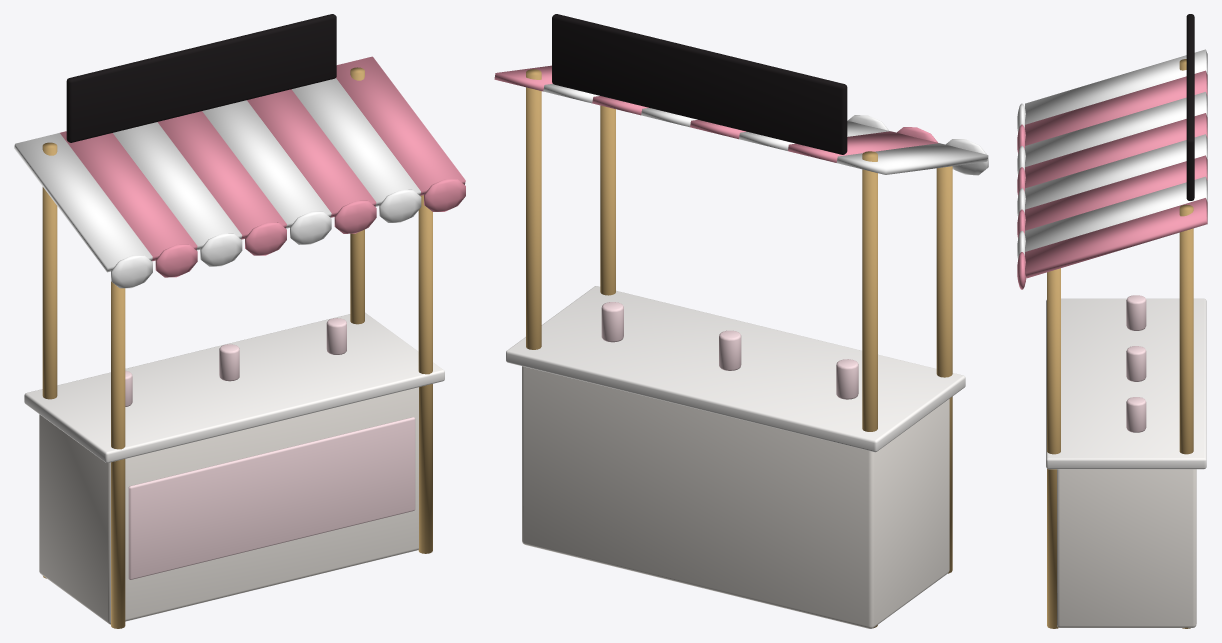
Rendered from plaza_stall.glb.
3 views of the same model, side by side, from view 1: azimuth 30°, elevation 25°; view 2: azimuth 150°, elevation 25°; view 3: azimuth 270°, elevation 25° (orthographic). The views are drawn at different scales.
Visible parts, largest first — view 1: Cube; view 2: Cube; view 3: Cube.
Part boxes in pixels (<box>): Cube: <box>14,14,465,628</box>; Cube: <box>494,14,988,628</box>; Cube: <box>1017,14,1207,628</box>.
Bounding box in the file's own units: 2 × 2.62 × 0.9494.
